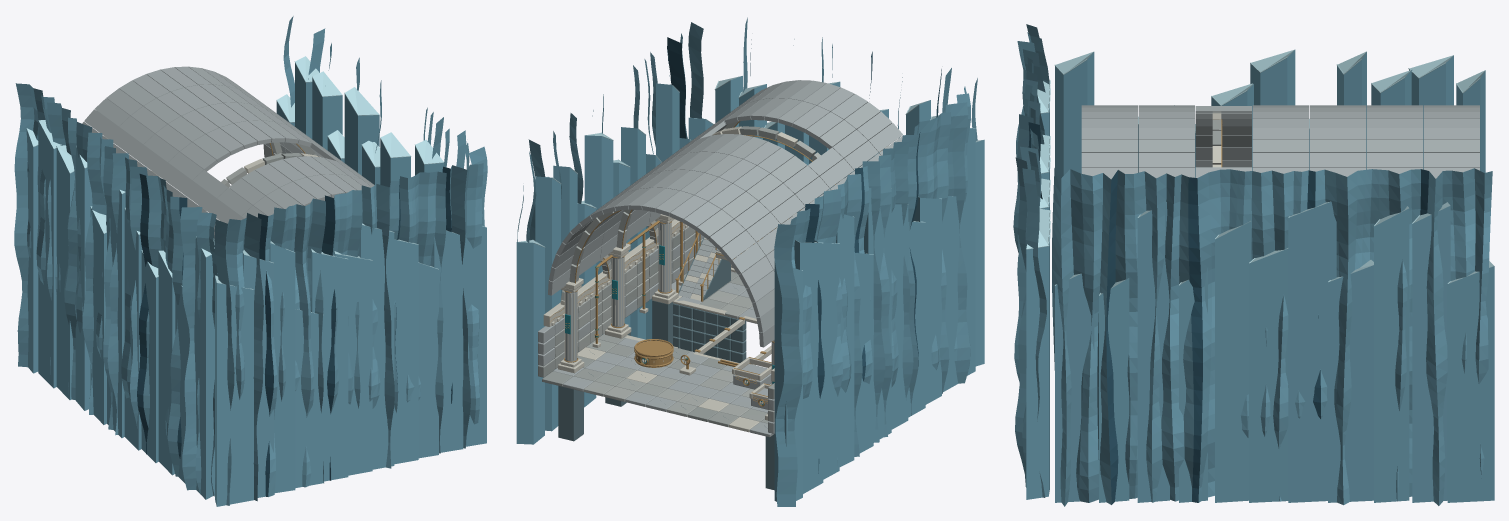
Rendered from cycle-hall-v09.glb.
3 views of the same model, side by side, from view 1: azimuth 30°, elevation 25°; view 2: azimuth 150°, elevation 25°; view 3: azimuth 270°, elevation 25° (orthographic). The views are drawn at different scales.
Parts seen in each view (by area): view 1: Interior glacial strata 10, Interior limestone 0, Interior glacial depths 11, Interior frost crest 12; view 2: Interior glacial strata 10, Interior limestone 0, Interior carved edges 5, Interior recessed stone 9, Interior aged bronze 7, Interior stone tone 3 2, Interior glacial depths 11, Interior stone tone 2 6, Interior stone tone 4 3, Interior stone tone 1 1, Interior stone tone 0 4, Interior frost crest 12; view 3: Interior glacial strata 10, Interior limestone 0, Interior glacial depths 11, Interior frost crest 12.
Boxes of the visible parts, x1=… form: Interior glacial strata 10: x1=14, y1=16, x2=487, y2=506; Interior limestone 0: x1=82, y1=66, x2=374, y2=238; Interior glacial depths 11: x1=96, y1=78, x2=452, y2=496; Interior frost crest 12: x1=26, y1=56, x2=486, y2=314; Interior glacial strata 10: x1=516, y1=17, x2=984, y2=506; Interior limestone 0: x1=538, y1=80, x2=902, y2=437; Interior carved edges 5: x1=543, y1=126, x2=888, y2=432; Interior recessed stone 9: x1=558, y1=237, x2=774, y2=490; Interior aged bronze 7: x1=549, y1=121, x2=880, y2=406; Interior stone tone 3 2: x1=577, y1=128, x2=815, y2=422; Interior glacial depths 11: x1=667, y1=37, x2=941, y2=473; Interior stone tone 2 6: x1=554, y1=121, x2=804, y2=421; Interior stone tone 4 3: x1=578, y1=152, x2=843, y2=416; Interior stone tone 1 1: x1=538, y1=127, x2=779, y2=427; Interior stone tone 0 4: x1=542, y1=126, x2=760, y2=421; Interior frost crest 12: x1=518, y1=76, x2=982, y2=270; Interior glacial strata 10: x1=1013, y1=24, x2=1494, y2=506; Interior limestone 0: x1=1081, y1=105, x2=1479, y2=179; Interior glacial depths 11: x1=1028, y1=122, x2=1428, y2=504; Interior frost crest 12: x1=1026, y1=49, x2=1493, y2=295.
Bounding box in the file's own units: 18.07 × 16.76 × 21.96.
